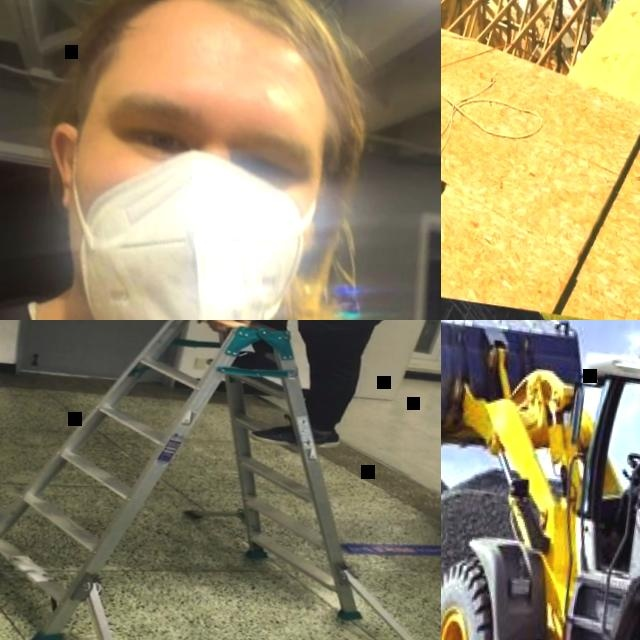Mask: (38, 134, 322, 320)
NO-Hardhat: (70, 0, 349, 124)
Person: (0, 0, 441, 320), (82, 320, 435, 462)
machinery: (441, 320, 640, 640)
